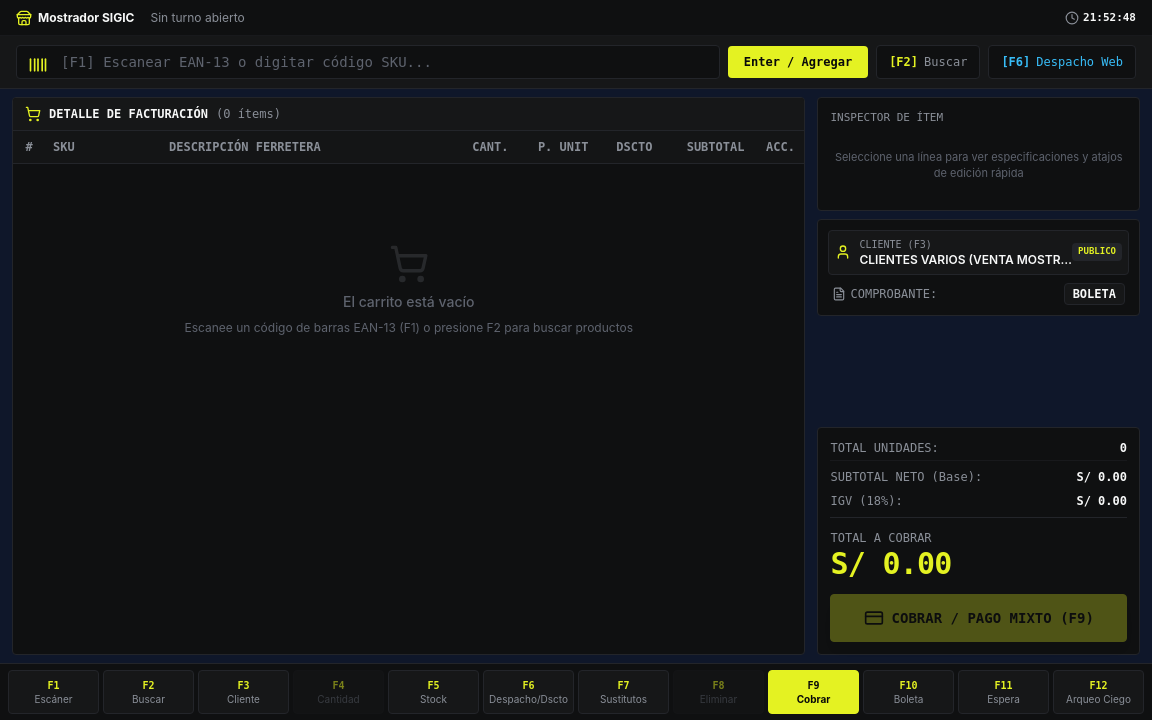
Test: Despacho Ligero en Tienda de Pedidos Web (RF-POS-011) › exige DNI de 8 dígitos para confirmar recepción física en tienda
Click the text "Despacho Web" at (1080, 62), box [1036,54,1123,70]
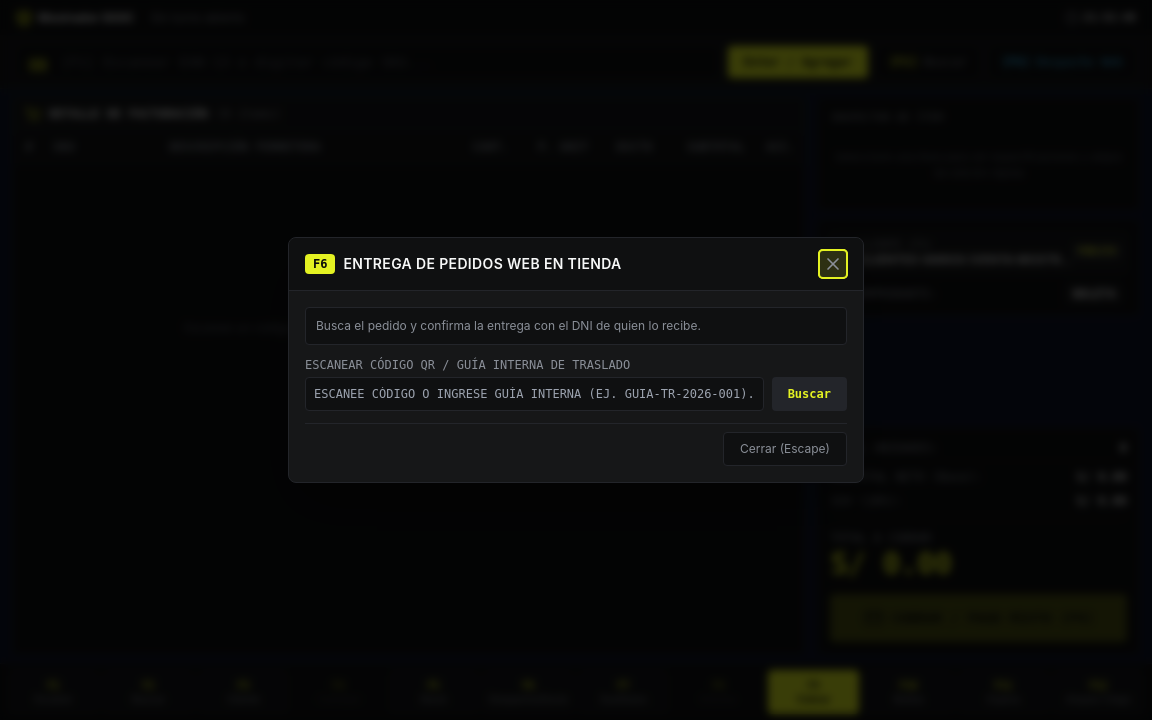
Replace the text in the field with placeholder "Escanee código o ingrese Guía Interna" with "GUIA-TR-2026-002" at (534, 394), box [305,377,764,411]
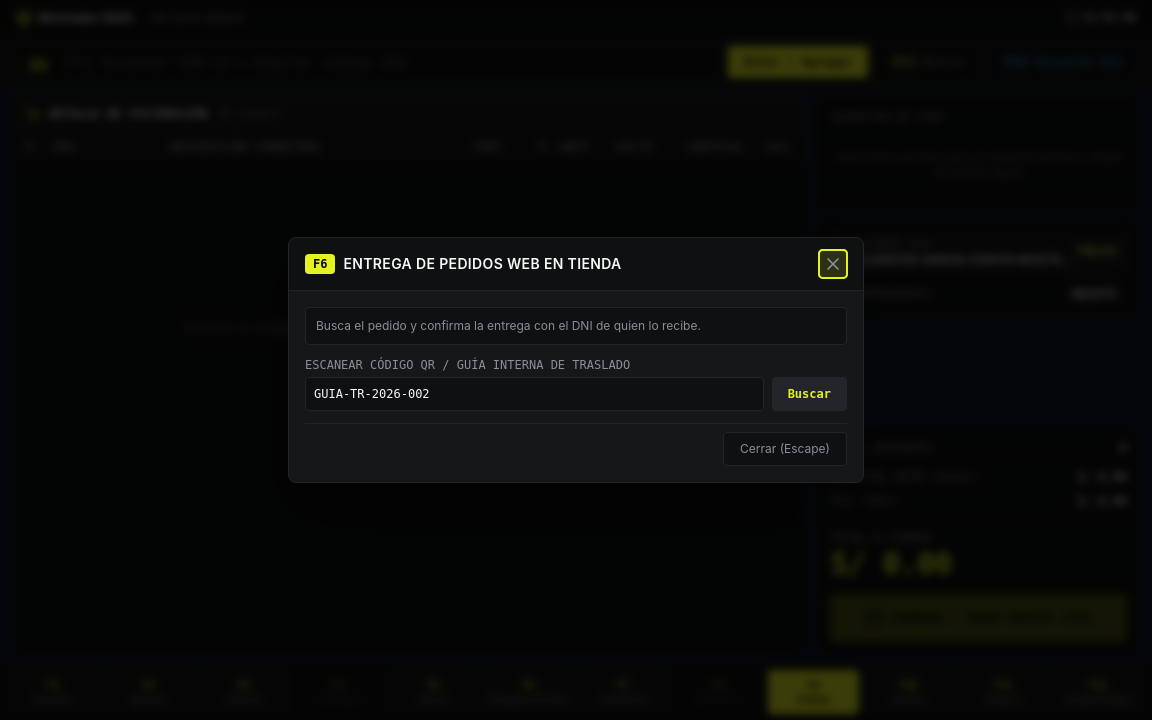
Click the button "Buscar" at (809, 394), box [772,377,847,411]
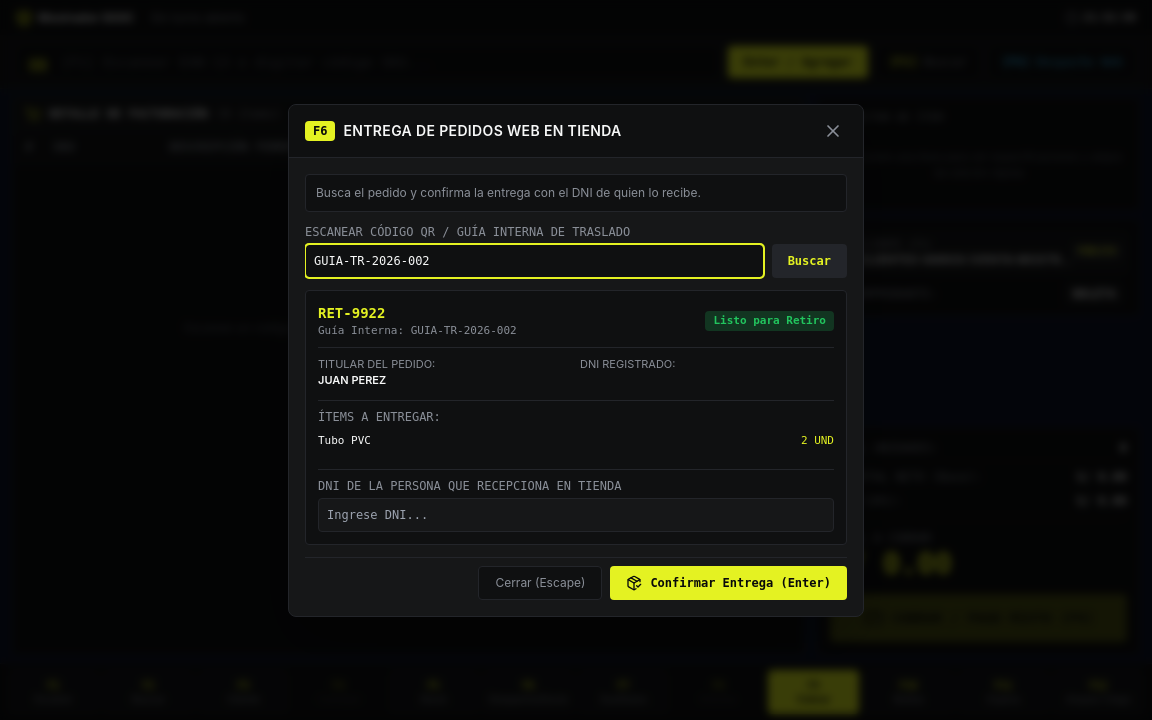
Now the text "RET-9922" is shown, box [318,304,385,320]
Intentar con DNI inválido (menos de 8 dígitos)
Type "12345" into the field with placeholder "Ingrese DNI..." at (576, 514), box [318,498,834,532]
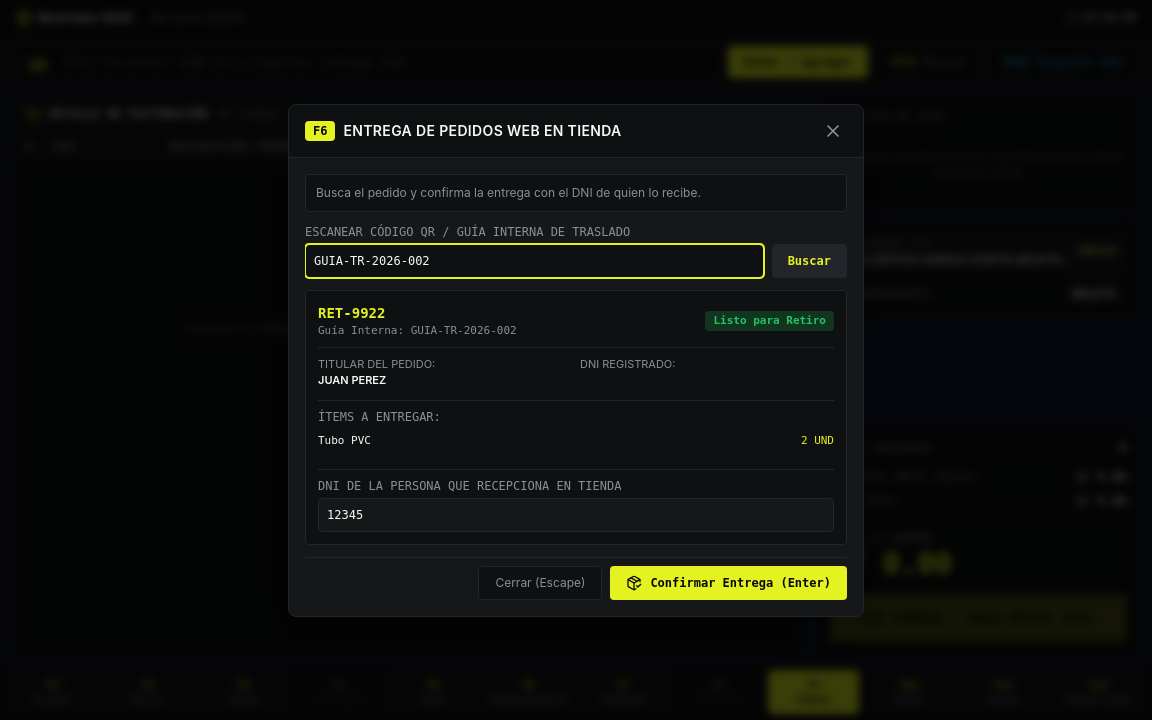
Click the button "Confirmar Entrega (Enter)" at (729, 582), box [610,566,847,600]
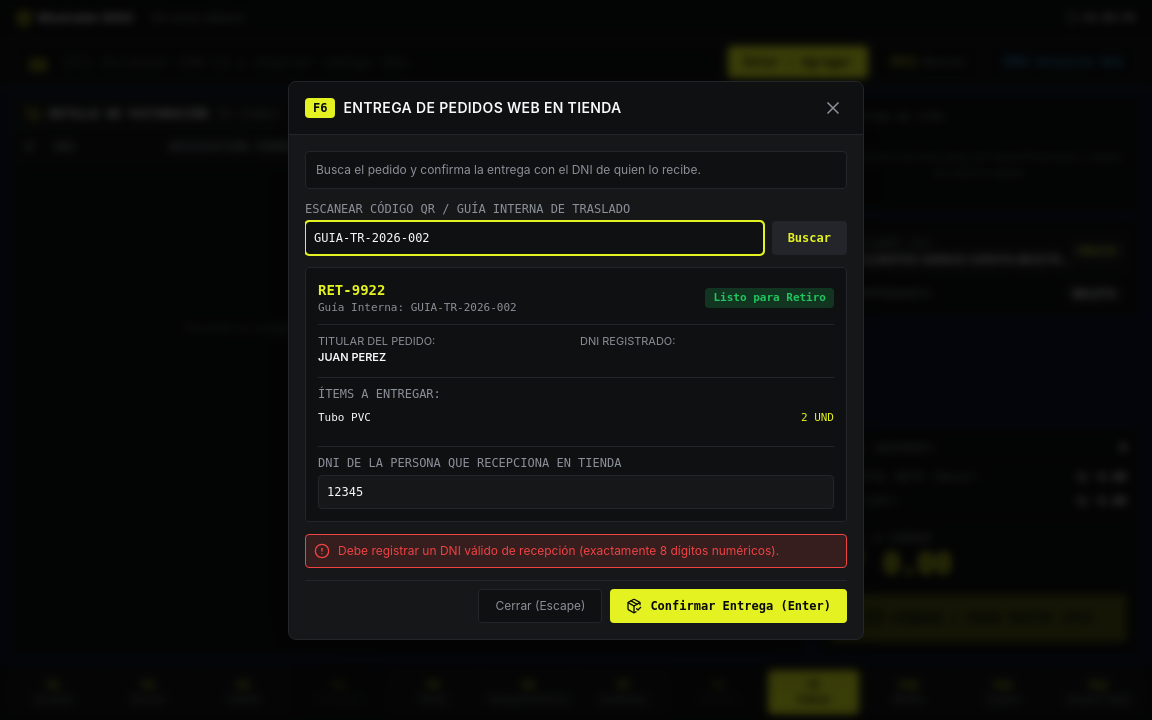
Now the text "exactamente 8 dígitos numéricos" is shown, box [338,542,779,558]
